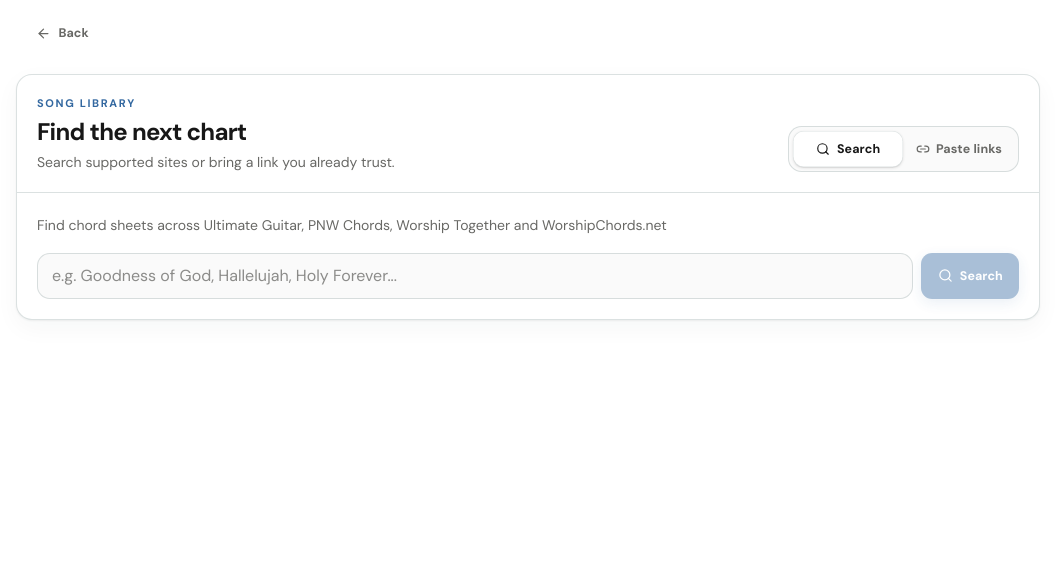
Test: SearchPage import wiring › shows and keeps partial results selectable while another source is pending
Step 1. Type "Good Grace" into the field with placeholder "e.g. Goodness of God, Hallelujah, Holy Forever..." → (475, 276), box [37,253,913,299]
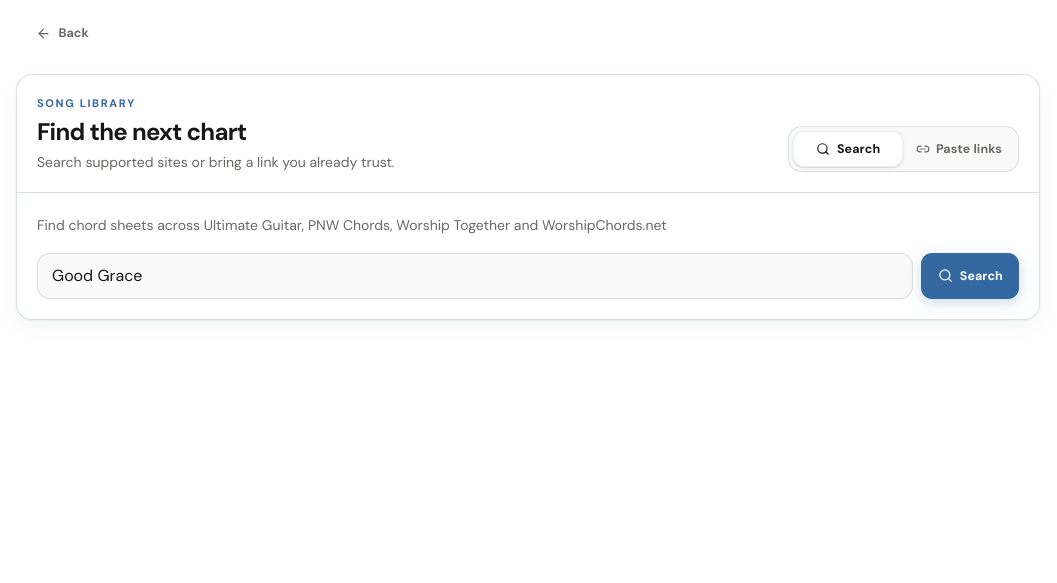
Step 2. Submit the form with placeholder "Goodness of God, Hallelujah, Holy Forever", box [37,253,1019,299]
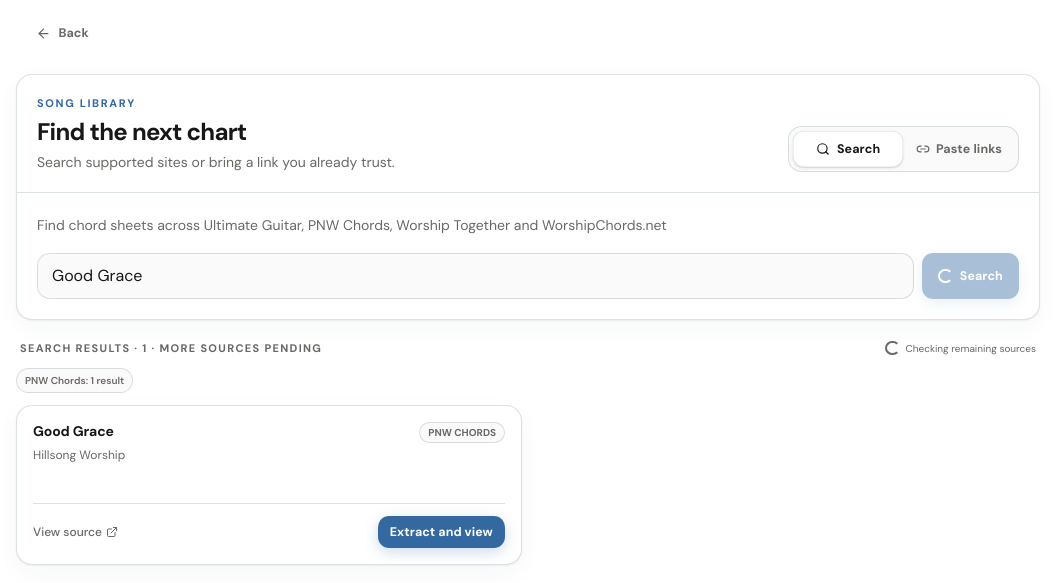
Check: the heading "Good Grace" is shown, box [33,422,114,442]
Check: the button "Extract and view" is shown, box [378,516,505,548]
Check: the text "Checking remaining sources" is shown, box [885,341,1036,356]
